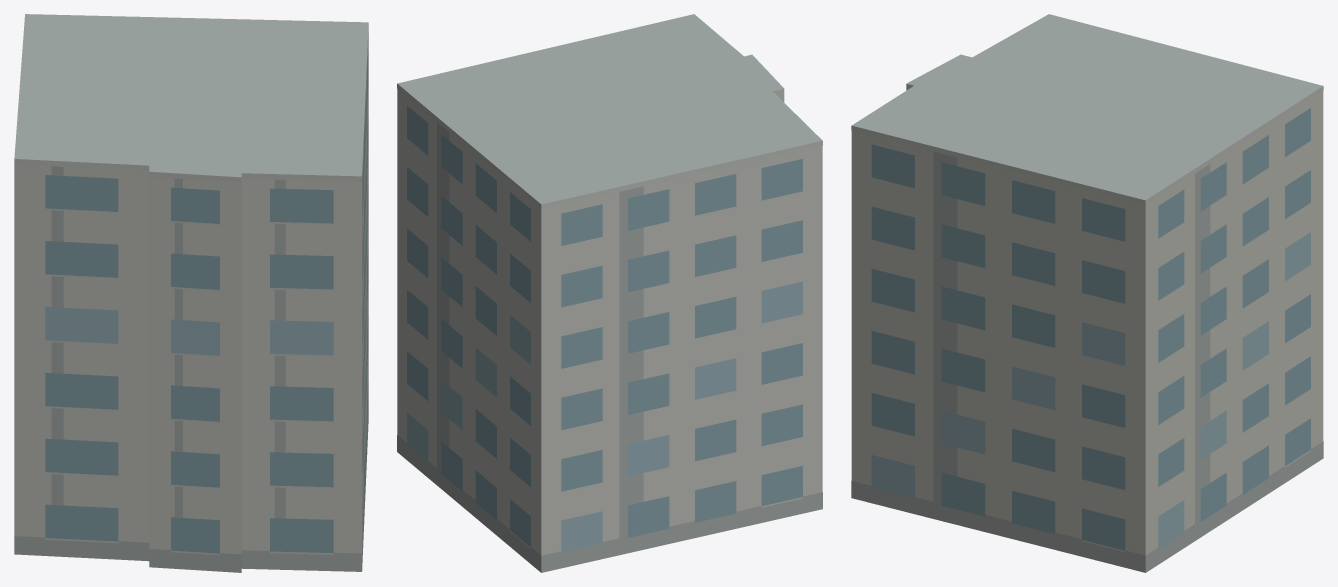
The model's file is survey-upis-32947256.glb.
The picture shows the model from 3 angles, left to right: view 1: azimuth 30°, elevation 25°; view 2: azimuth 150°, elevation 25°; view 3: azimuth 270°, elevation 25°; orthographic projection. The views are drawn at different scales.
Parts seen in each view (by area): view 1: survey-upis-32947256.tmp; view 2: survey-upis-32947256.tmp; view 3: survey-upis-32947256.tmp.
Boxes of the visible parts, left/top/right/bottom form: survey-upis-32947256.tmp: left=14, top=14, right=368, bottom=572; survey-upis-32947256.tmp: left=397, top=14, right=822, bottom=572; survey-upis-32947256.tmp: left=851, top=14, right=1323, bottom=572.
Size of the model in its own units: 19.16 by 17.85 by 20.5.
